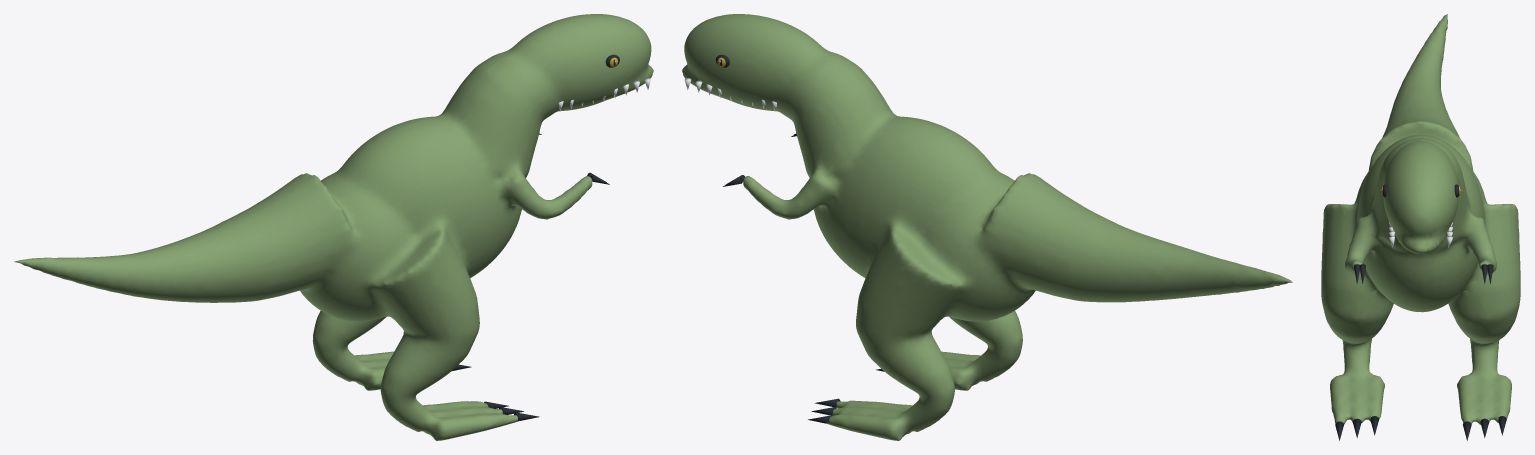
Rendered from dinosaur.glb.
3 renders of one model, left to right at view 1: azimuth 30°, elevation 25°; view 2: azimuth 150°, elevation 25°; view 3: azimuth 270°, elevation 25°, orthographic. The views are drawn at different scales.
Parts seen in each view (by area): view 1: Continuous anatomical skin; view 2: Continuous anatomical skin; view 3: Continuous anatomical skin.
Boxes of the visible parts, x1,y1,x2,y2 form: Continuous anatomical skin: (14,14,653,440); Continuous anatomical skin: (682,14,1292,440); Continuous anatomical skin: (1321,14,1520,424).
Bounding box in the file's own units: 8.48 × 4.5 × 2.51.
Materials: 4 (4 with a texture image).
